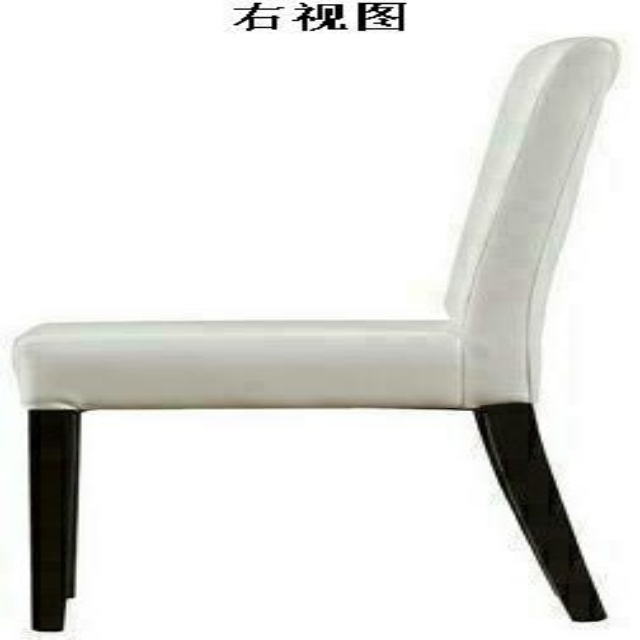obstacle: (15, 38, 617, 630)
